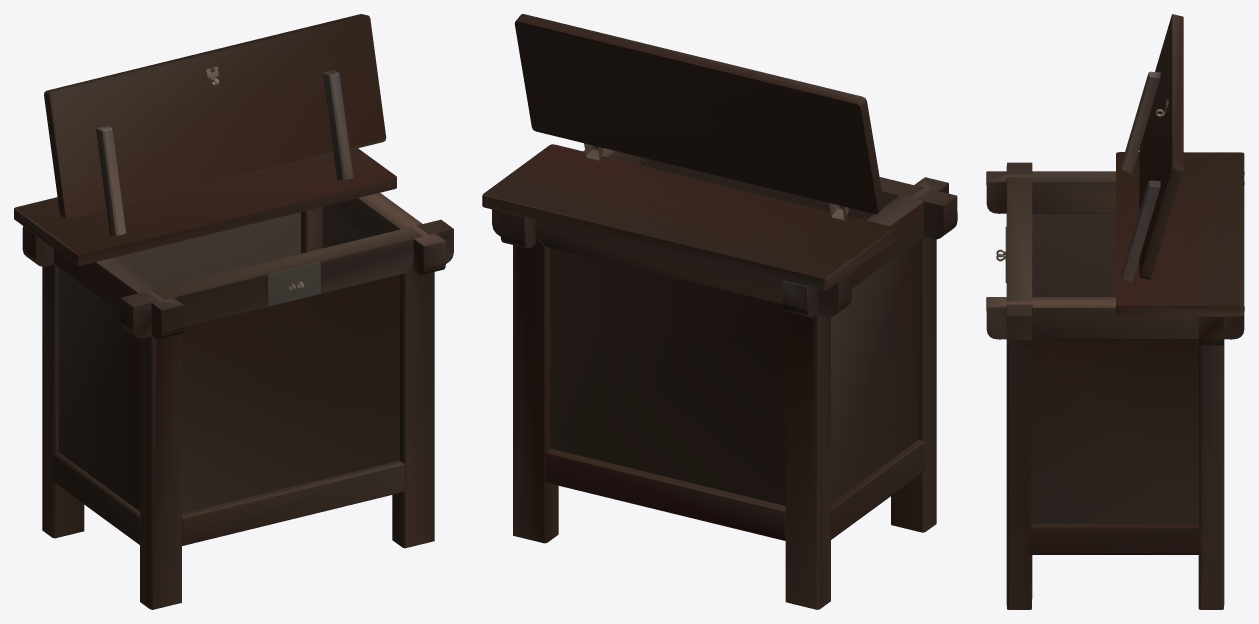
Rendered from opened.glb.
3 views of the same model, side by side, from view 1: azimuth 30°, elevation 25°; view 2: azimuth 150°, elevation 25°; view 3: azimuth 270°, elevation 25° (orthographic). The views are drawn at different scales.
Parts seen in each view (by area): view 1: SM_Unhyun_GrainChest_cover01_M_GrainChest_body_0; view 2: SM_Unhyun_GrainChest_cover01_M_GrainChest_body_0; view 3: SM_Unhyun_GrainChest_cover01_M_GrainChest_body_0.
Boxes of the visible parts, box(x1,y1,x2,y2) form: SM_Unhyun_GrainChest_cover01_M_GrainChest_body_0: box(14, 14, 453, 609); SM_Unhyun_GrainChest_cover01_M_GrainChest_body_0: box(482, 14, 957, 609); SM_Unhyun_GrainChest_cover01_M_GrainChest_body_0: box(986, 14, 1244, 609).
Size of the model in its own units: 1.14 by 1.57 by 0.8099.
